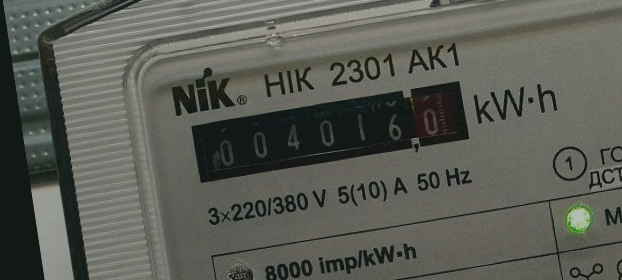0: (314, 113, 340, 151), (214, 133, 239, 169), (248, 125, 272, 162), (417, 103, 442, 137)
1: (351, 107, 371, 143)
4: (281, 118, 304, 154)
6: (382, 107, 405, 142)
screen: (182, 72, 479, 191)
